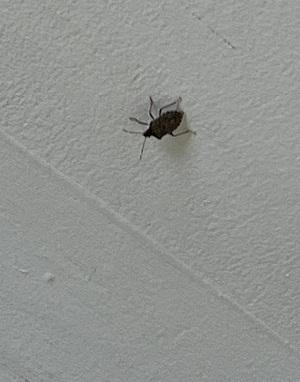stink_bugs: (110, 80, 210, 168)
